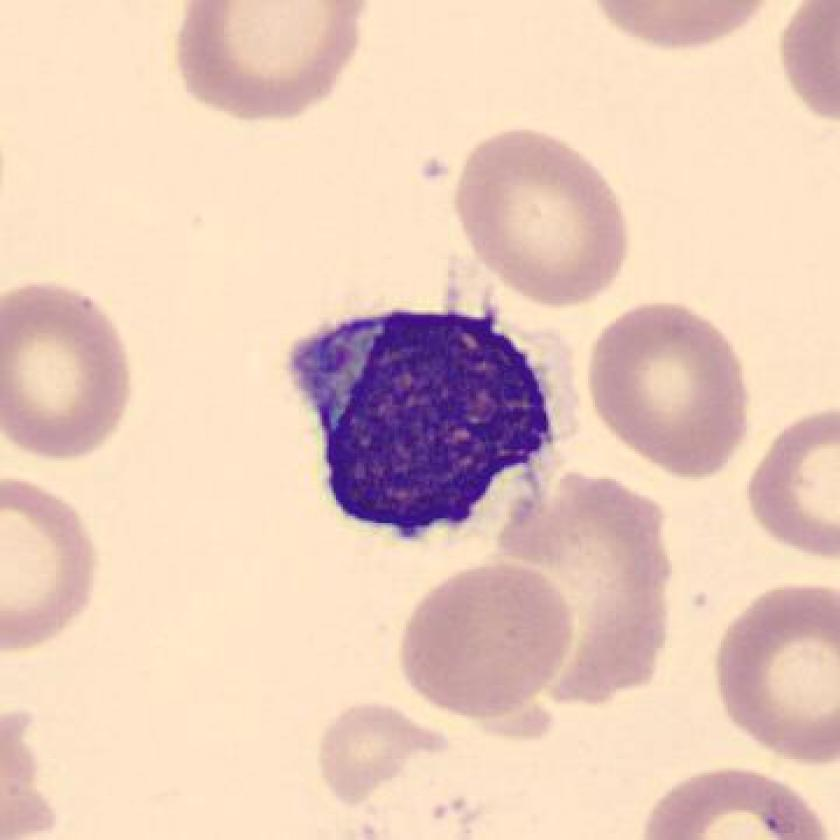lymphocyte: (274, 284, 580, 557)
